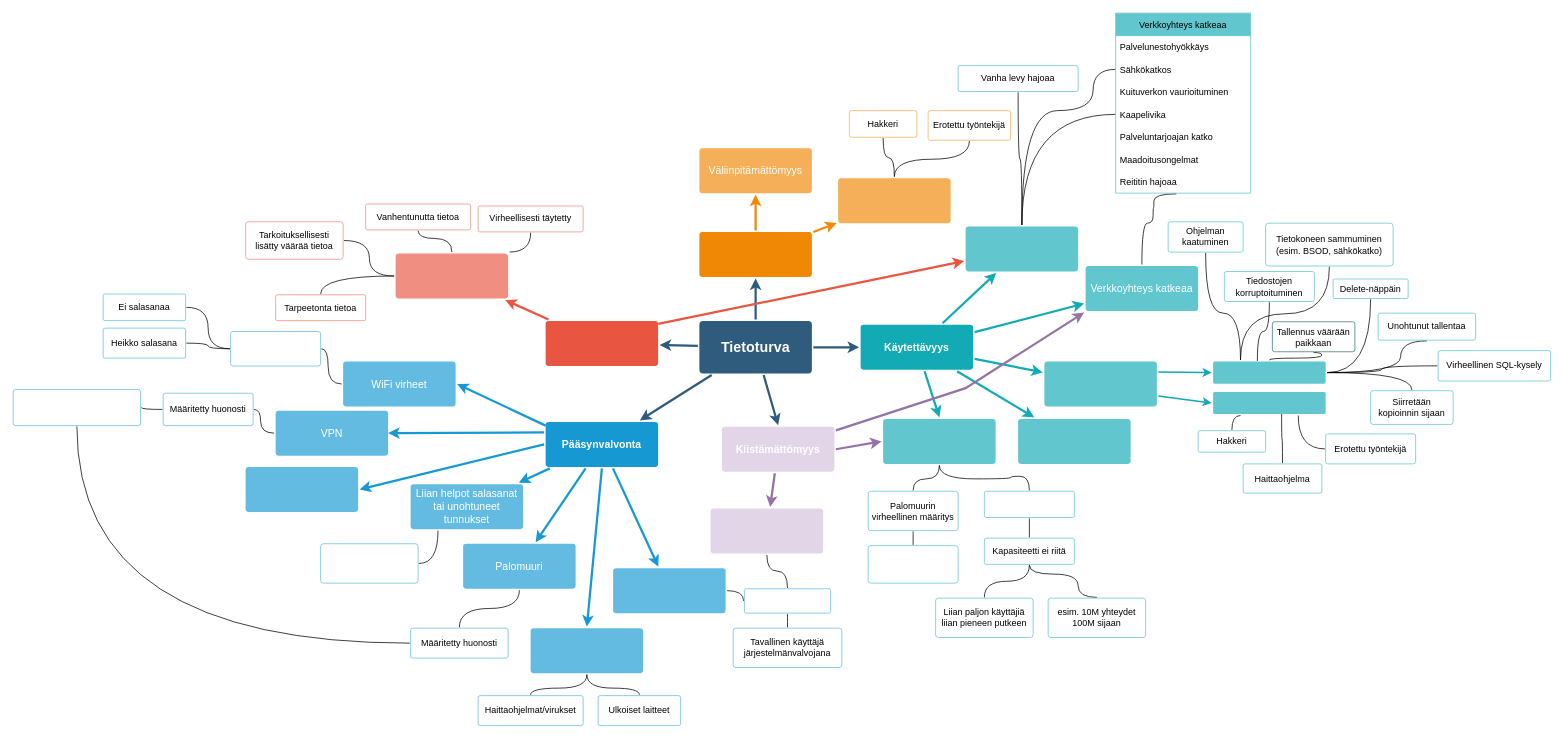
Image size: 1564x739. Some labels were removed from this diagram. Each missing label, with the centre of its shape:
"Eheys" goes at [601,343].
"Joku poistaa tiedot" goes at [1100,383].
"Kiintolevy rikki" goes at [1021,248].
"Konfigurointivirheet" goes at [275,348].
"Käyttäjätilien hallinta" goes at [766,530].
"Käyttäjätilien oikeudet" goes at [669,590].
"Liian pienet rungot" goes at [1029,504].
"Liikaa oikeuksia" goes at [787,600].
"Luottamuksellisuus" goes at [755,254].
"Palomuuri estää pääsyn ulkoverkosta" goes at [76,407].
"Palveluihin ei pääse käsiksi" goes at [912,564].
"Salasanojen vähimmäisvahvuus" goes at [369,563].
"Tahallaan" goes at [1269,403].
"Tietoja ei löydy" goes at [1074,441].
"Tietojen laiton levittäminen" goes at [894,200].
"Vahingossa" goes at [1269,372].
"Verkon luvaton käyttö" goes at [586,650].
"Verkon virheellinen konfigurointi" goes at [939,441].
"Virheellistä tietoa" goes at [451,275].
"VLAN-konfigurointi ongelmat/virheet" goes at [301,489].
